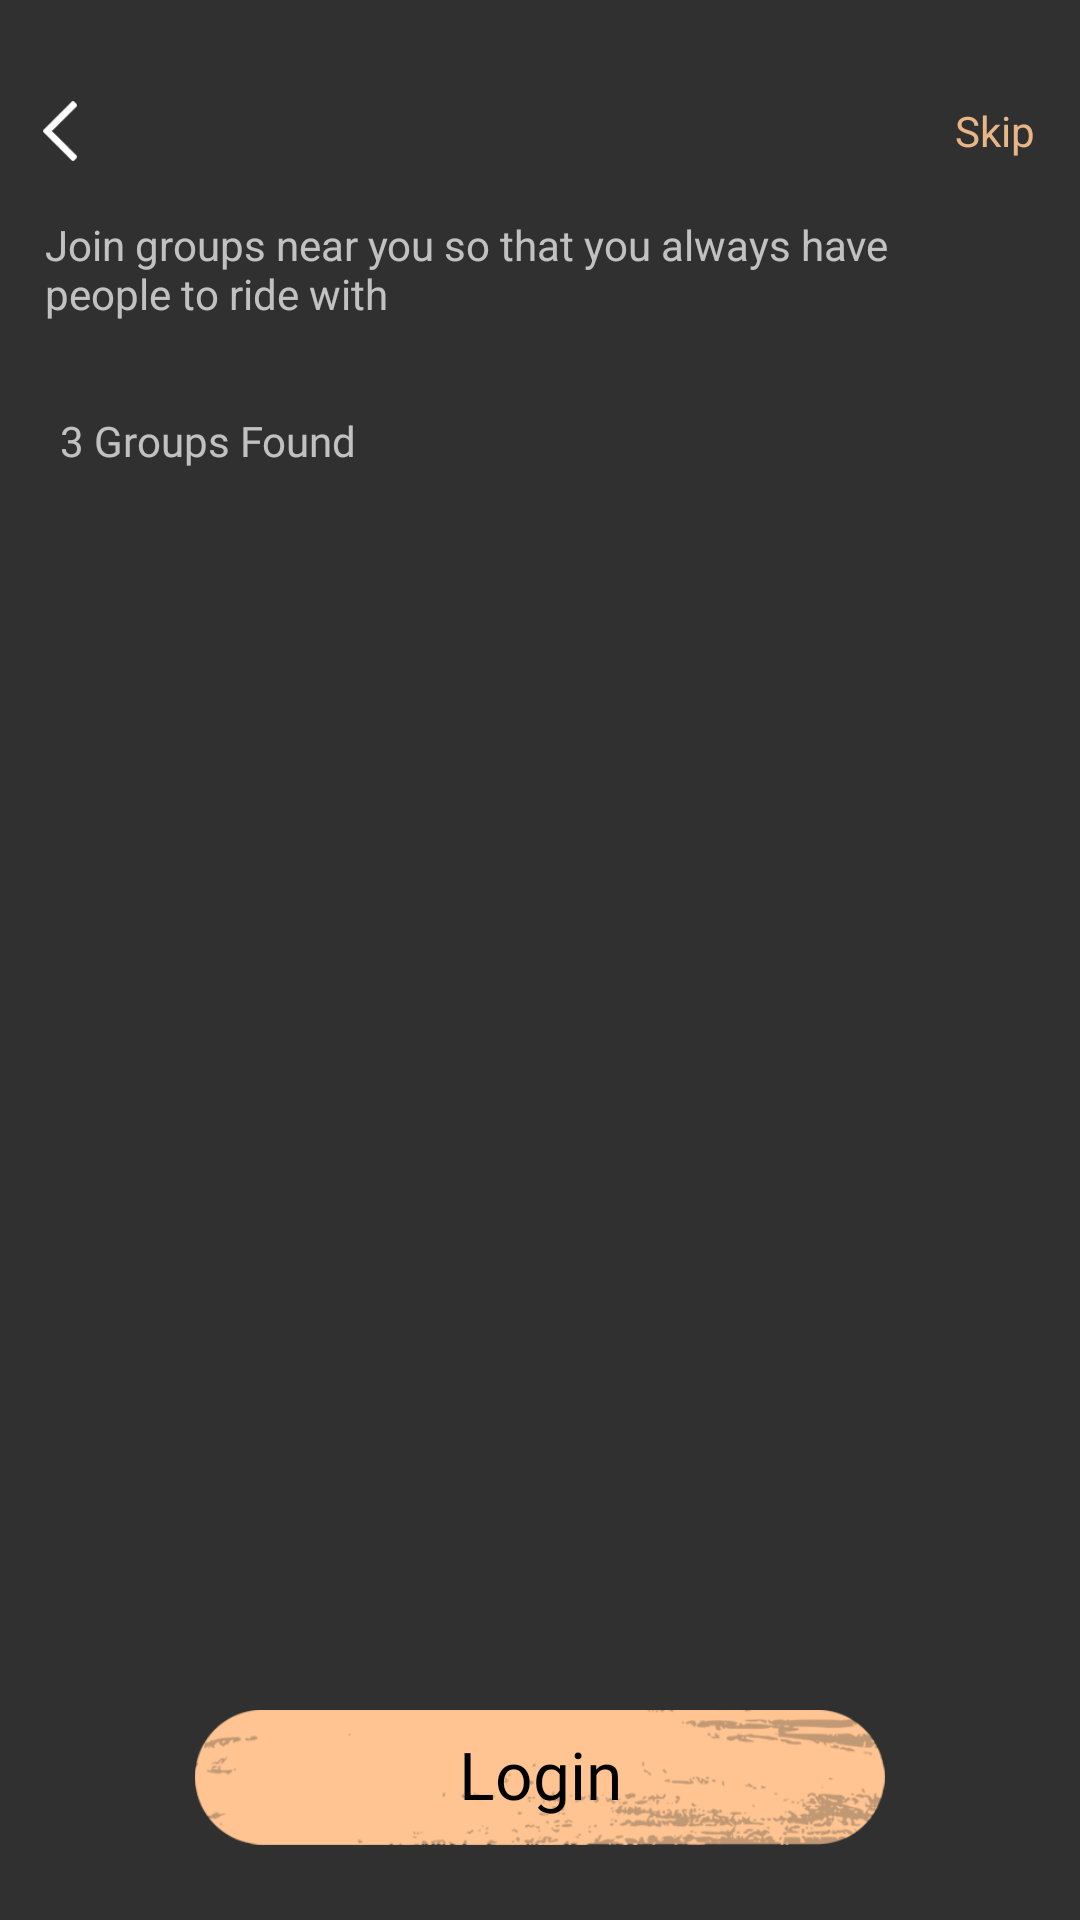

Point at icon controls on the screen. Image size 1080px×1920px, points as (x,y).
back arrow: (60,131)
